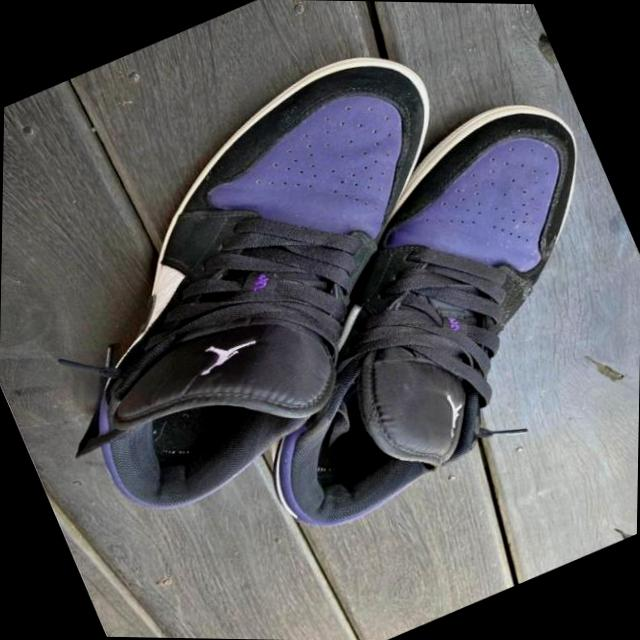nike_fake_jordan: (0, 18, 548, 537), (150, 74, 640, 555)
